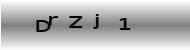1: (118, 16, 133, 31)
D: (35, 19, 51, 33)
Z: (67, 15, 83, 29)
j: (92, 13, 100, 30)
r: (48, 14, 59, 26)
